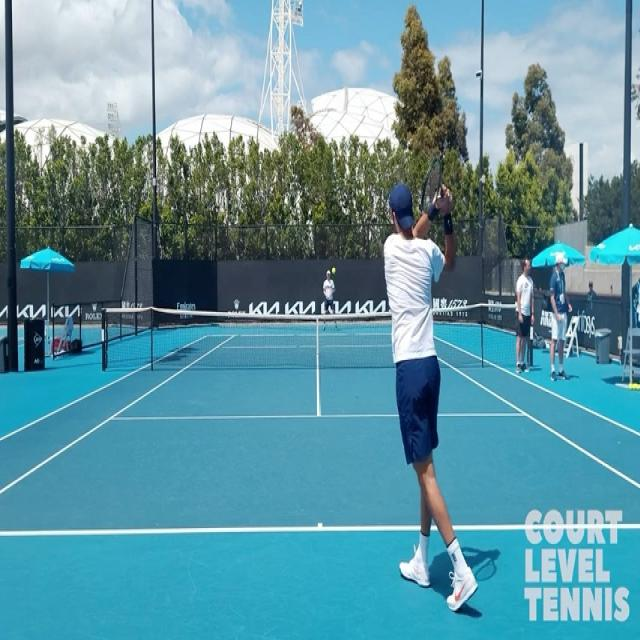forehand-finish: (366, 154, 477, 616)
